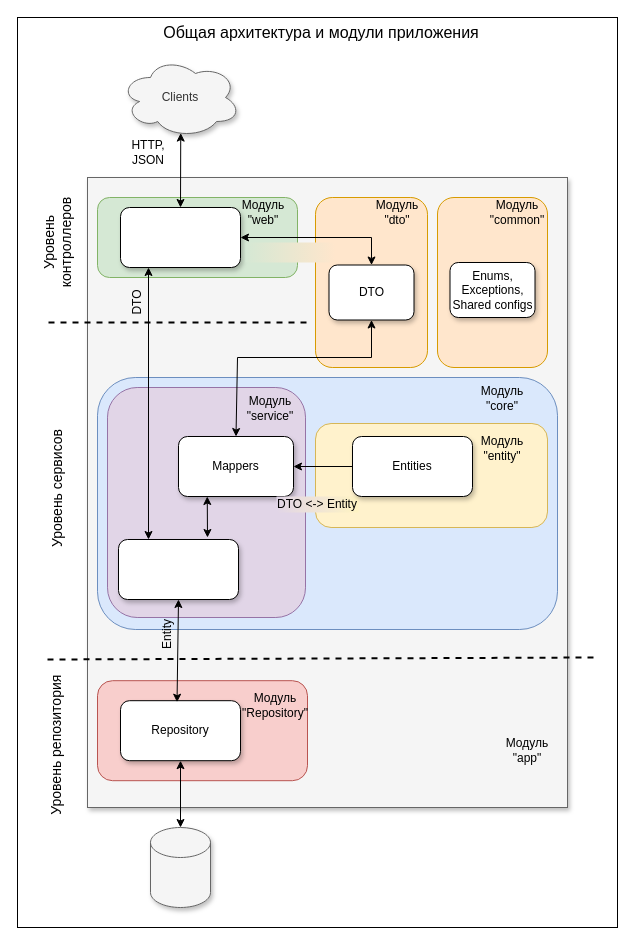
This 635x945 diagram has some shape labels left out. The shapes that lost their labels are listed below. From the top down, each one's centre as x and y in pixels, then its label:
At pixel 181 238: "Controllers".
At pixel 290 252: "DTO <-> JSON".
At pixel 179 570: "Services".
At pixel 181 868: "Database".
